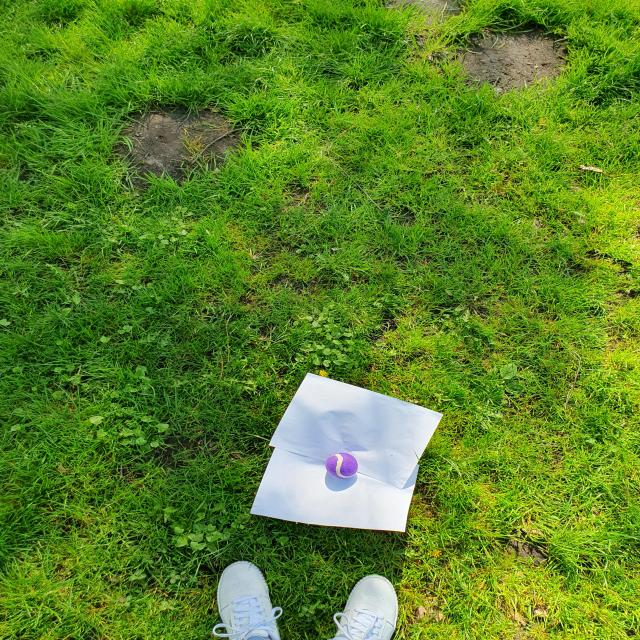purple: (326, 452, 359, 478)
